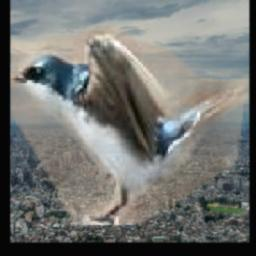Swallow: (11, 26, 249, 225)
